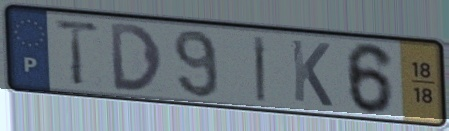6: (343, 40, 398, 116)
9: (170, 27, 222, 100)
D: (106, 21, 165, 94)
I: (251, 33, 269, 105)
K: (288, 36, 336, 110)
T: (52, 17, 103, 88)
